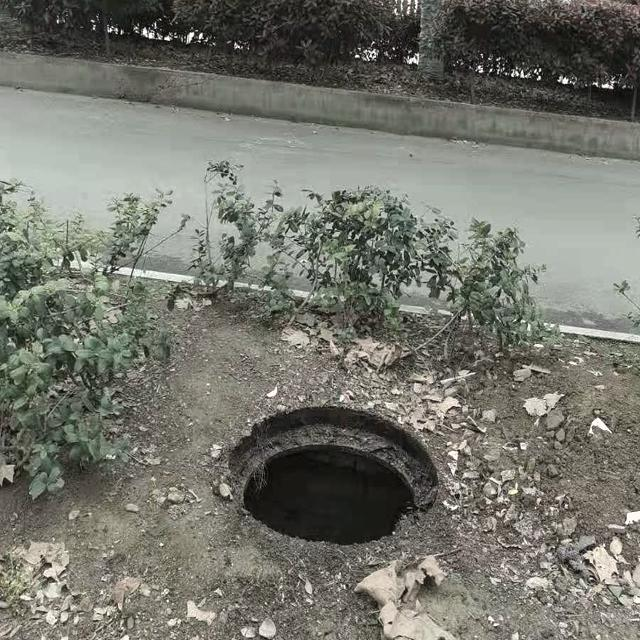lose: (227, 402, 444, 552)
